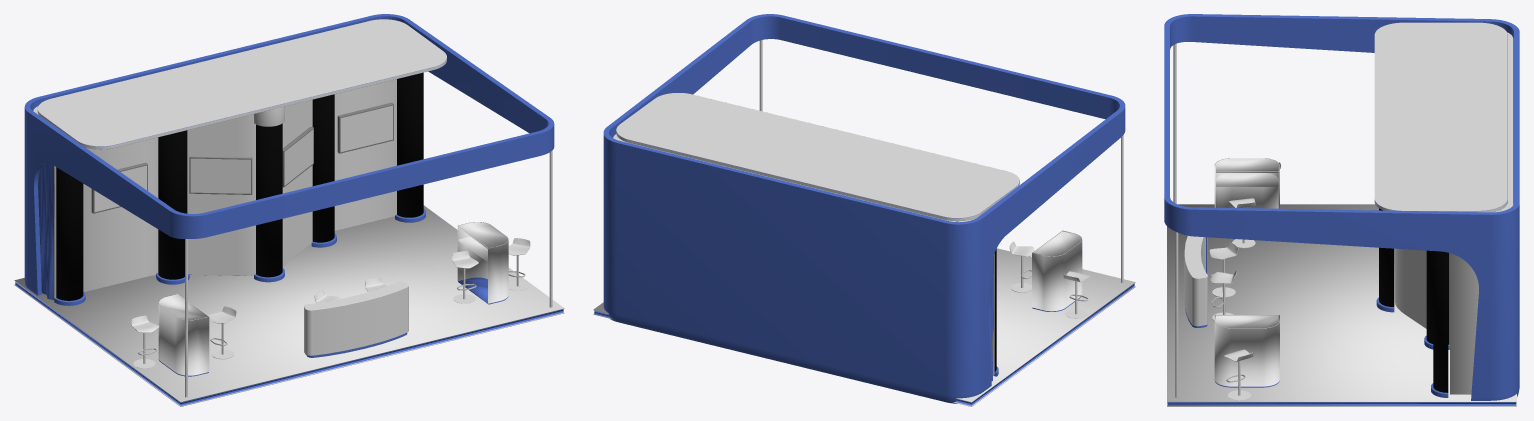
The model's file is stend_demo.gltf.
The picture shows the model from 3 angles, left to right: view 1: azimuth 30°, elevation 25°; view 2: azimuth 150°, elevation 25°; view 3: azimuth 270°, elevation 25°; orthographic projection. The views are drawn at different scales.
Parts seen in each view (by area): view 1: Floor, Frame, Cap_2, Storage, Screen, Spline_4, Cylinder_5, Rectangle_1_2, Cylinder_2_3, Cylinder_3_4, Cylinder_4, Rectangle_1 (+6 smaller); view 2: Frame, Cap_2, Floor, Rectangle_1_2, Rectangle, Storage, Plane_1; view 3: Floor, Frame, Cap_2, Storage, Rectangle_1, Rectangle_1_2, Cylinder_4, Spline_4, Cylinder_2_3, Cylinder, Cap_2_3, Column (+3 smaller).
Boxes of the visible parts, <box> form: Floor: <box>14,205,564,406</box>; Frame: <box>24,14,554,295</box>; Cap_2: <box>37,19,446,146</box>; Storage: <box>33,79,396,298</box>; Screen: <box>91,102,393,213</box>; Spline_4: <box>304,286,408,355</box>; Cylinder_5: <box>56,167,83,300</box>; Rectangle_1_2: <box>158,294,209,375</box>; Cylinder_2_3: <box>256,123,282,277</box>; Cylinder_3_4: <box>158,130,187,279</box>; Cylinder_4: <box>397,72,423,217</box>; Rectangle_1: <box>457,222,508,303</box>; Frame: <box>603,14,1125,403</box>; Cap_2: <box>616,93,1019,217</box>; Floor: <box>593,248,1135,406</box>; Rectangle_1_2: <box>1032,230,1082,311</box>; Rectangle: <box>616,132,1019,220</box>; Storage: <box>613,134,994,375</box>; Plane_1: <box>988,255,993,380</box>; Floor: <box>1167,204,1516,406</box>; Frame: <box>1164,14,1519,400</box>; Cap_2: <box>1374,22,1507,210</box>; Storage: <box>1395,32,1513,394</box>; Rectangle_1: <box>1214,315,1279,386</box>; Rectangle_1_2: <box>1214,158,1279,208</box>; Cylinder_4: <box>1433,251,1448,392</box>; Spline_4: <box>1184,237,1207,326</box>; Cylinder_2_3: <box>1379,208,1394,306</box>; Cylinder: <box>1426,250,1449,344</box>; Cap_2_3: <box>1184,236,1207,278</box>; Column: <box>1175,231,1178,397</box>.
Bounding box in the file's own units: 8 × 3.75 × 6.09.
